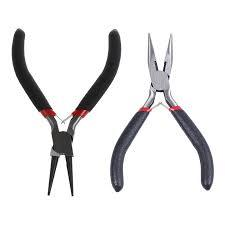pliers: (108, 32, 213, 192)
